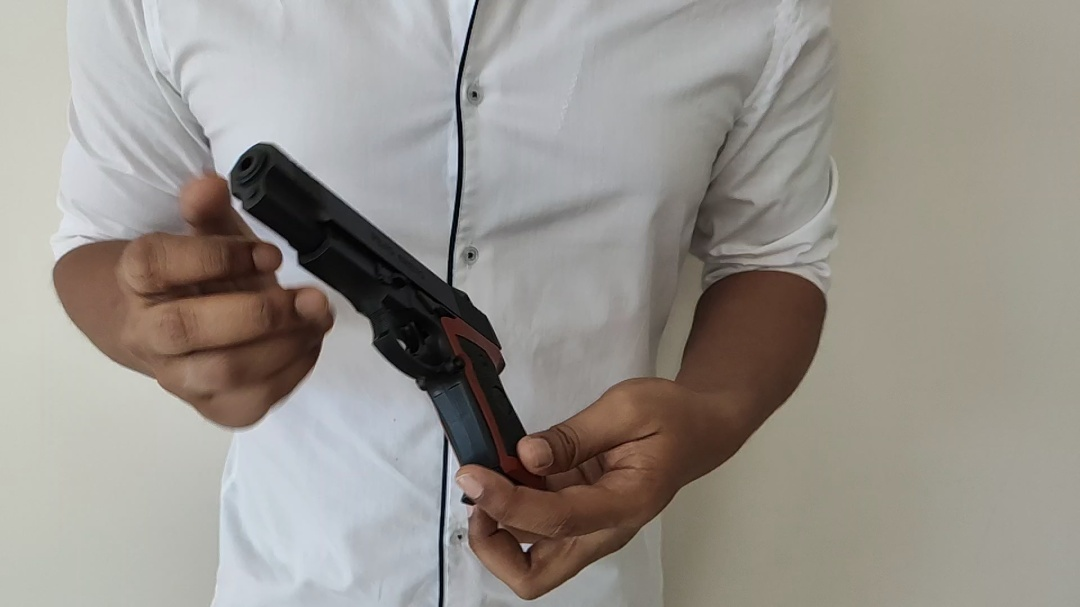gun: (229, 141, 545, 505)
